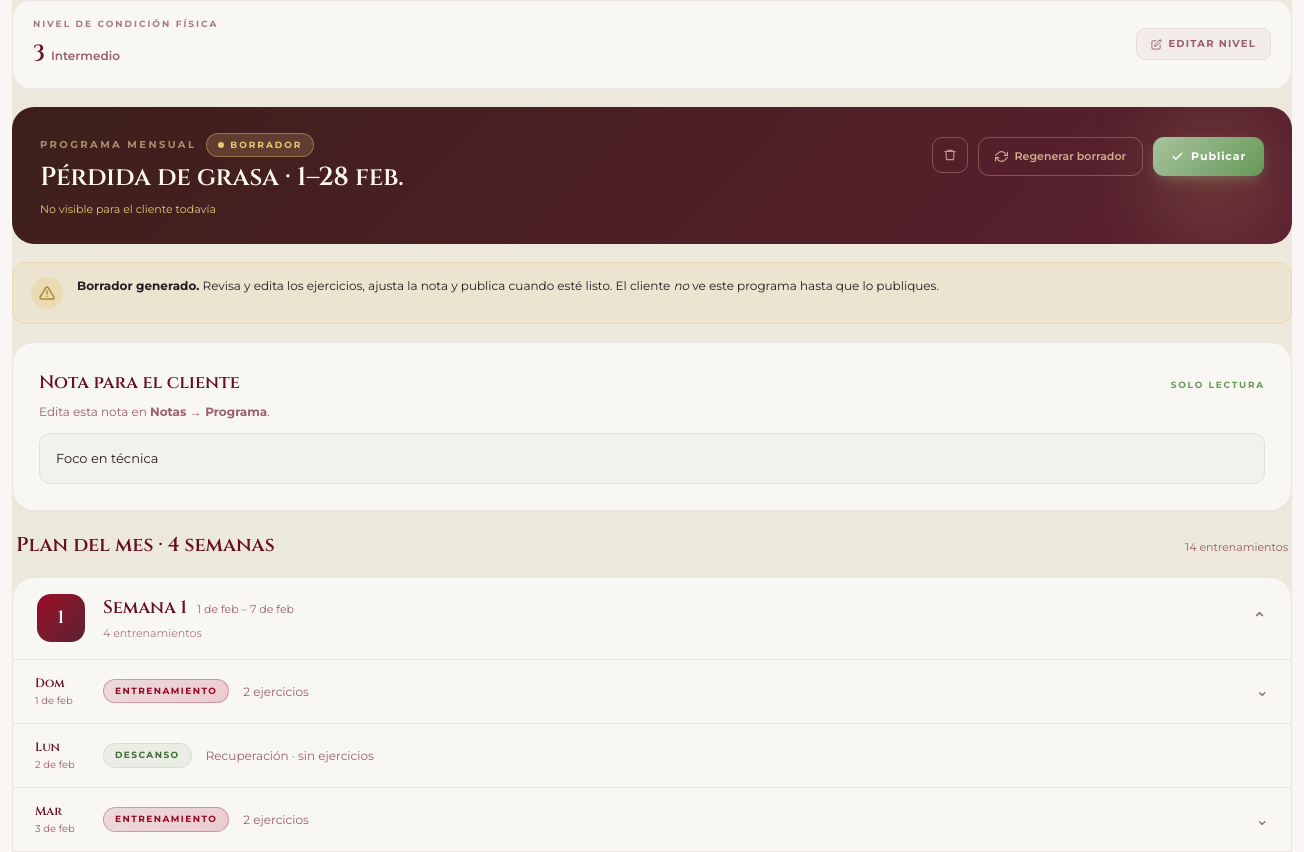
Test: ClientProgramTab › toggles an exercise input between reps and time mode
This screenshot has width=1304, height=852.
Check: the text "Borrador" is shown, box top-left (206, 133), bottom-right (314, 157)
Click the 1st text "2 ejercicios" at (276, 691), box top-left (243, 684), bottom-right (309, 699)
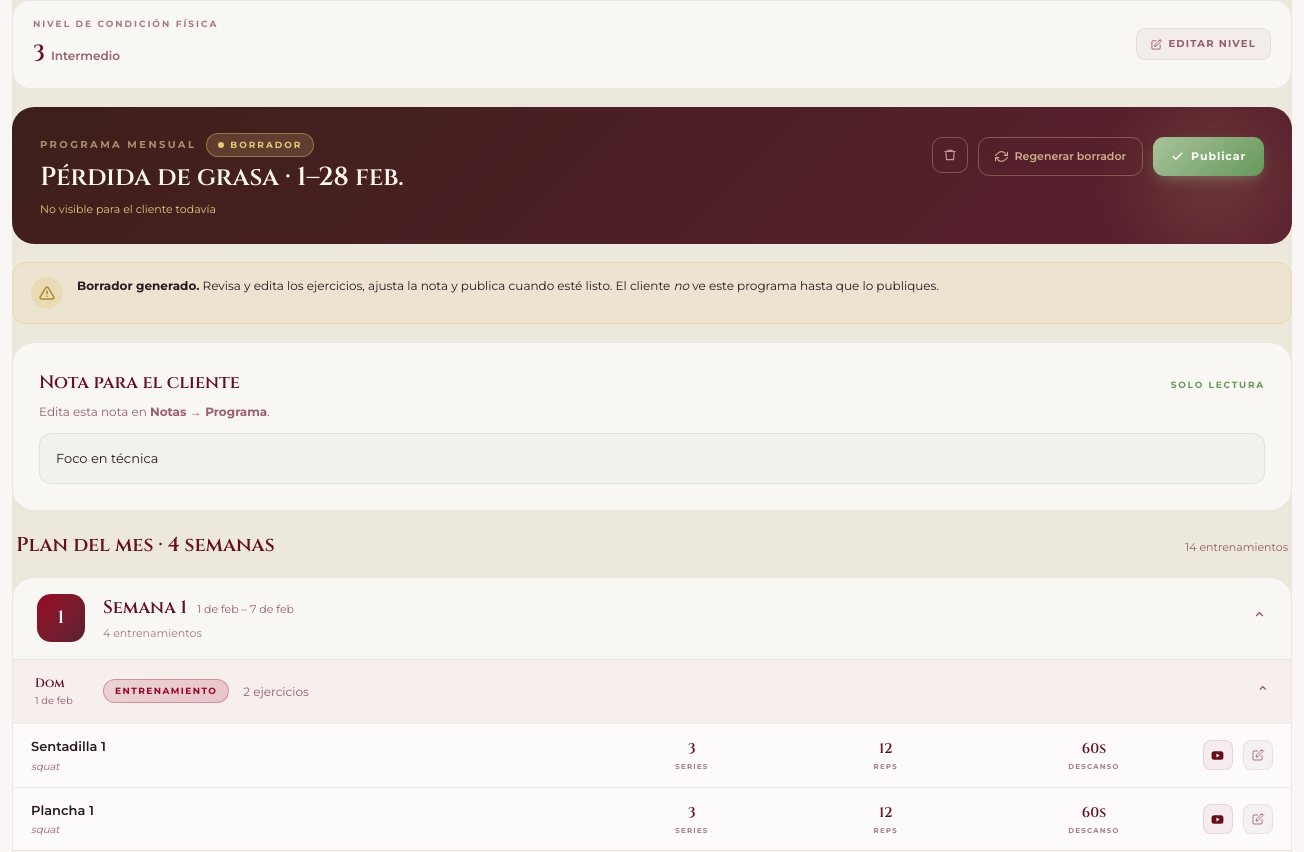
Click the button named "Editar ejercicio" in the row of "Sentadilla 1" at (1258, 755), box top-left (1243, 740), bottom-right (1273, 770)
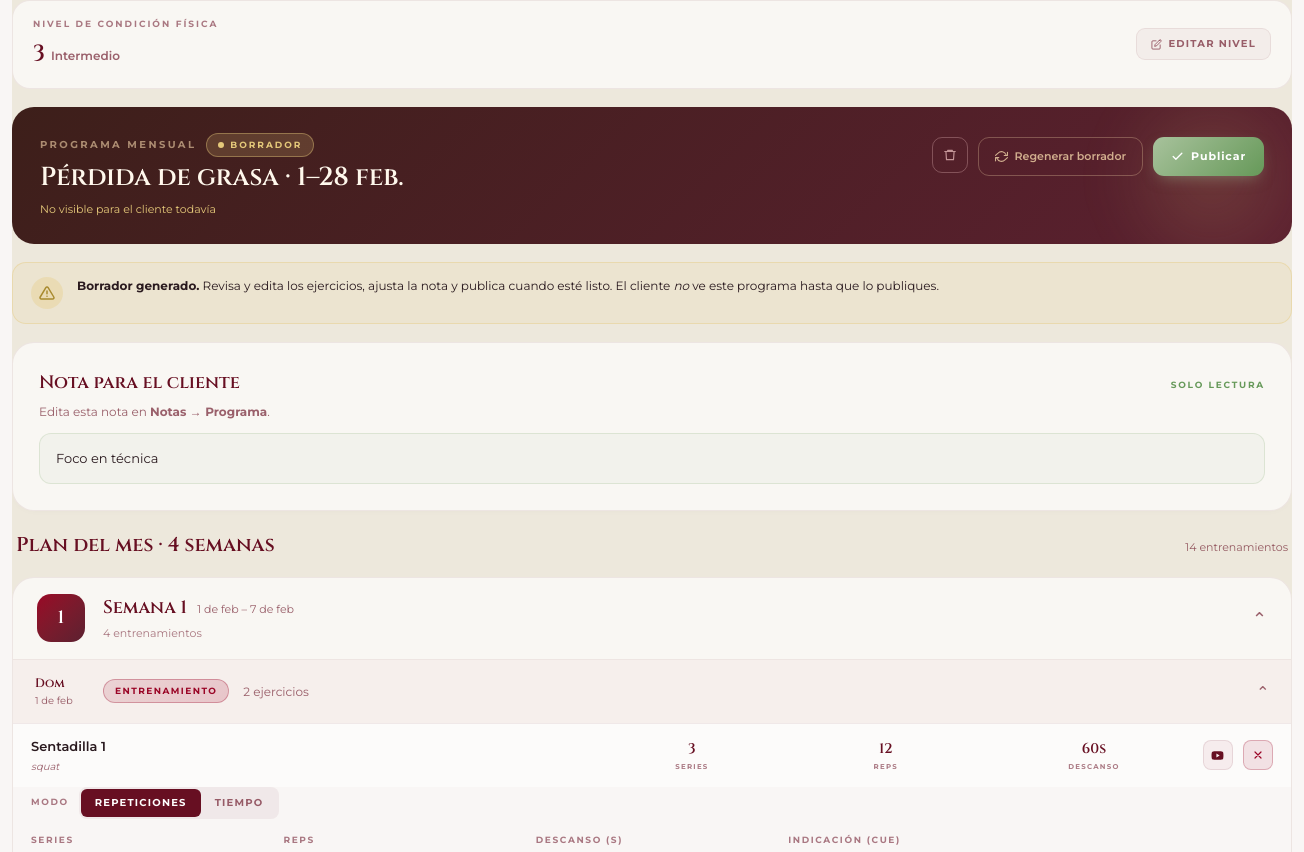
Click the button "Tiempo" at (239, 803), box top-left (201, 789), bottom-right (277, 817)
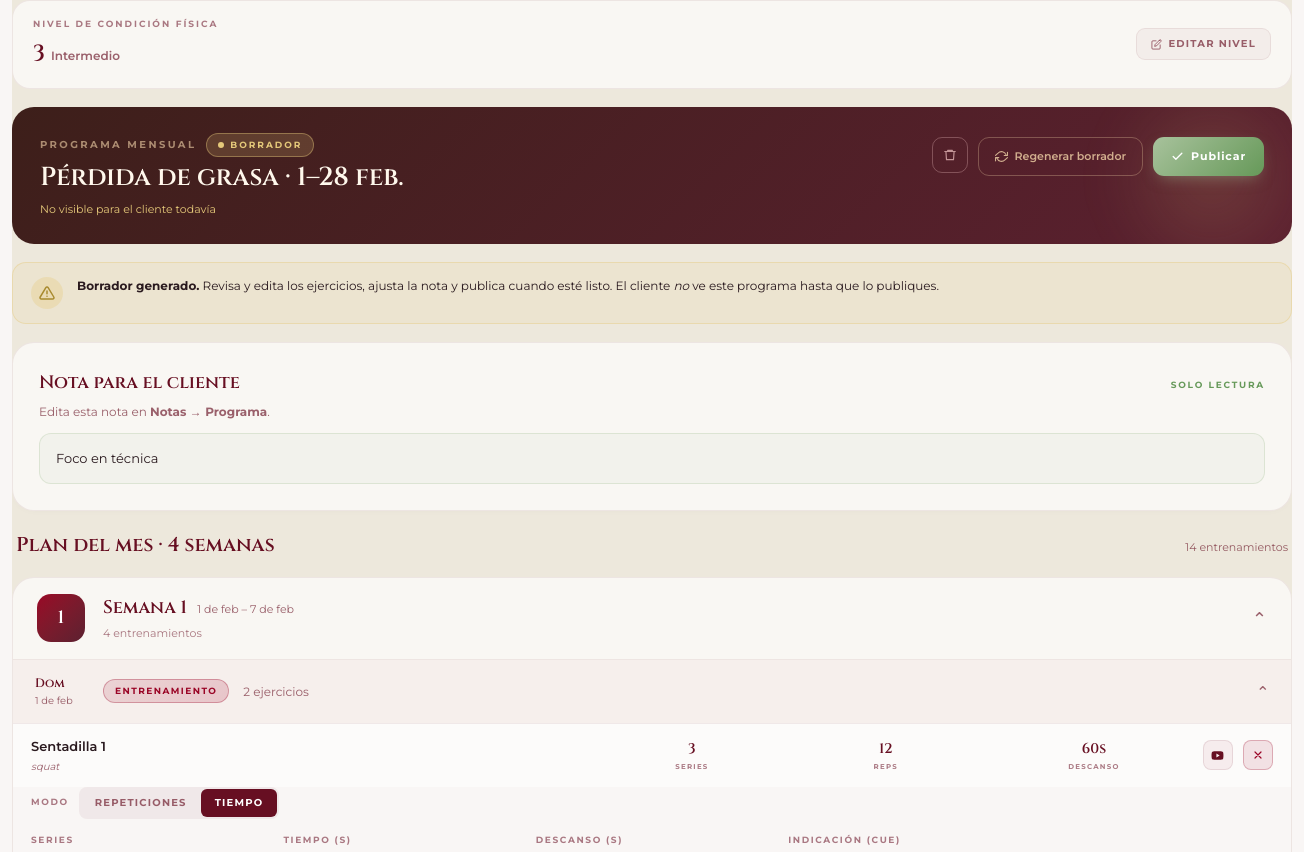
Check: the text "Tiempo (s)" is shown, box top-left (283, 834), bottom-right (352, 845)
